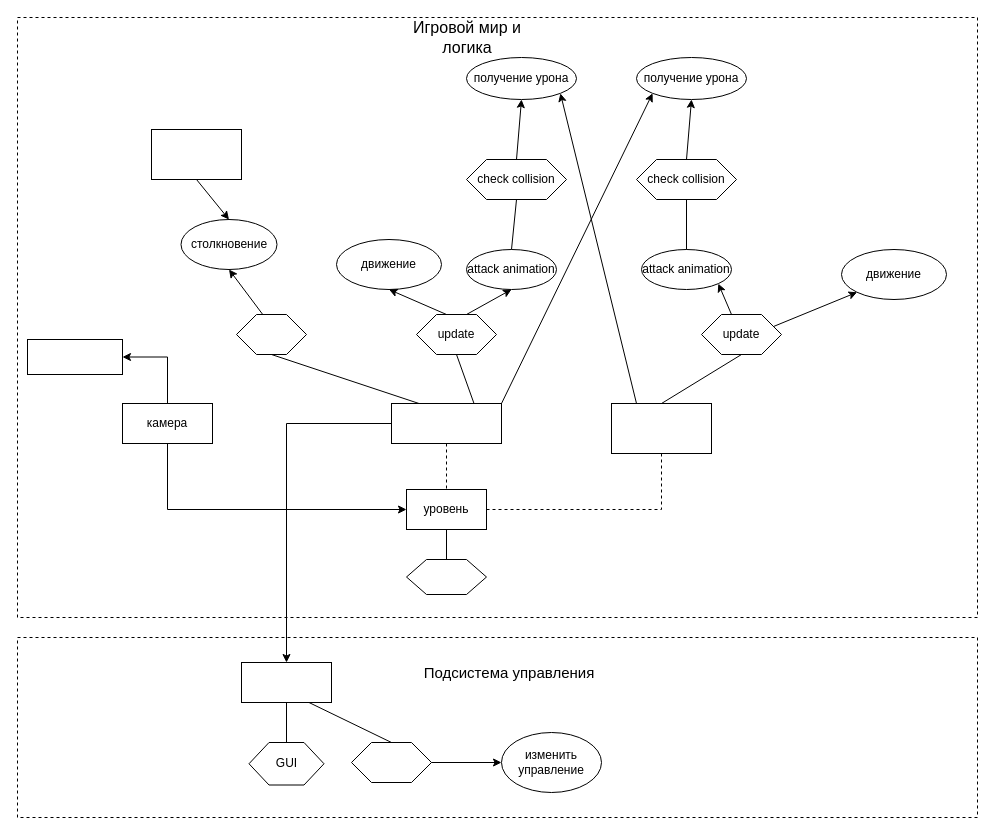
This 995x835 diagram has some shape labels left out. The shapes that lost their labels are listed below. From the top down, each one's box as (x1, y1, x2, y2) in pixels, then its label:
(150, 128, 242, 180): tile (physics layer)
(236, 314, 306, 354): collapse
(26, 338, 122, 374): gameUI
(390, 402, 502, 444): персонаж игрока
(610, 402, 712, 454): противник
(406, 558, 486, 594): load
(240, 662, 332, 702): controller
(350, 742, 432, 782): input
